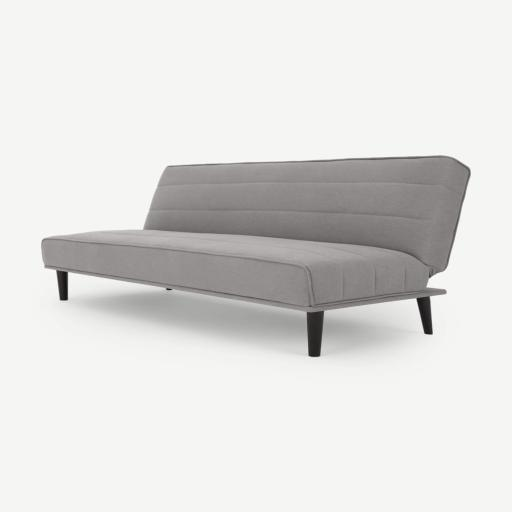back_cushion: (144, 157, 468, 275)
legs: (307, 311, 324, 356), (418, 296, 431, 334), (57, 270, 68, 300)
seat_cushion: (43, 230, 428, 308)
two-seater: (0, 0, 511, 512)
